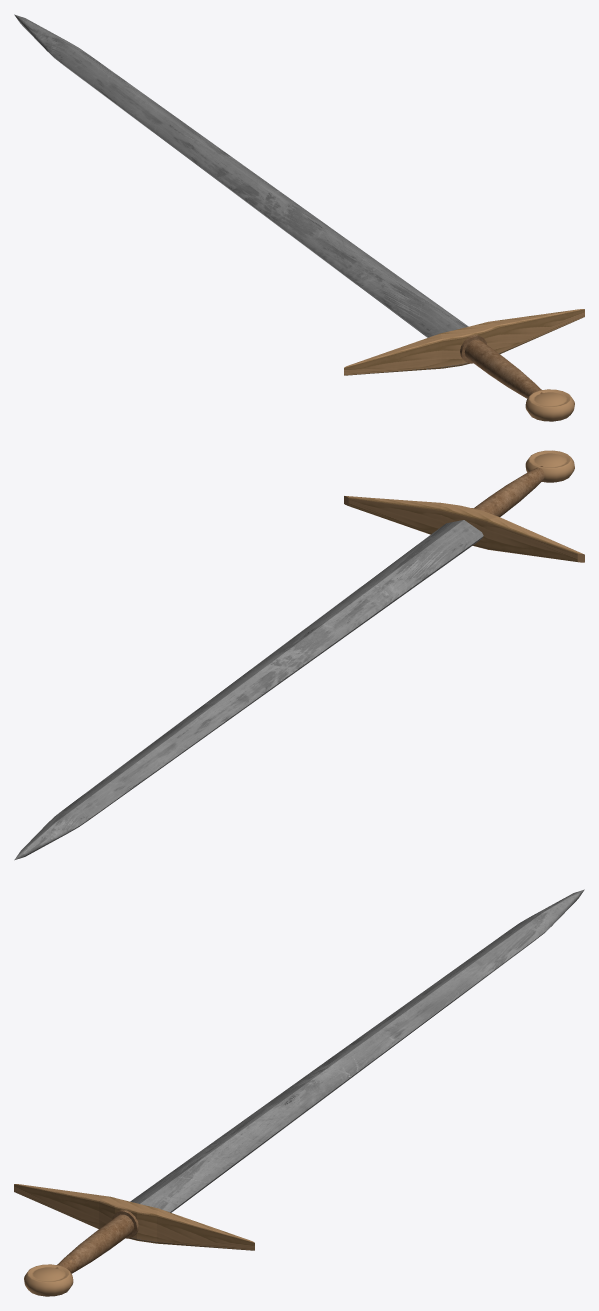
File: Longsword_3.fbx
3 renders of one model, top to bottom at view 1: azimuth 30°, elevation 25°; view 2: azimuth 150°, elevation 25°; view 3: azimuth 330°, elevation 25°, orthographic.
Parts seen in each view (by area): view 1: Gladius.008; view 2: Gladius.008; view 3: Gladius.008.
Boxes of the visible parts, left/top/right/bottom form: Gladius.008: left=14, top=14, right=584, bottom=421; Gladius.008: left=14, top=450, right=584, bottom=860; Gladius.008: left=14, top=889, right=584, bottom=1296.
Size of the model in its own units: 31.91 by 3.79 by 126.
